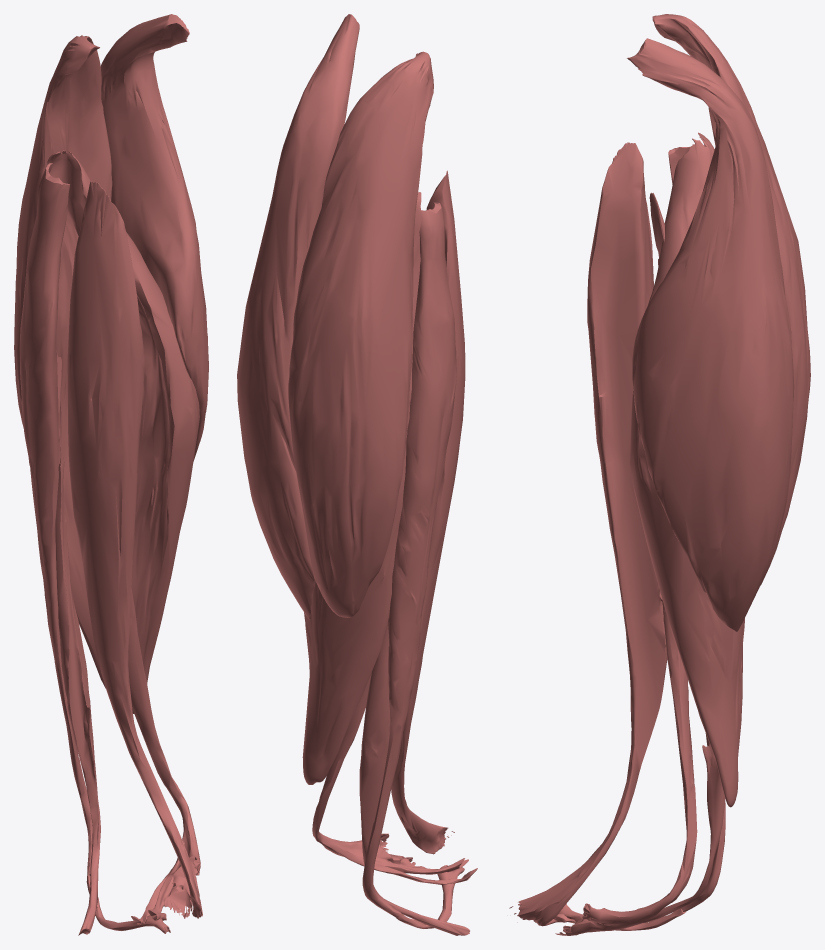
The model's file is muscular-leg-right.glb.
The picture shows the model from 3 angles, left to right: view 1: azimuth 30°, elevation 25°; view 2: azimuth 150°, elevation 25°; view 3: azimuth 270°, elevation 25°; orthographic projection. The views are drawn at different scales.
Visible parts, largest first — view 1: bp3d_FMA22544_FJ1439, bp3d_FMA22558_FJ1437, bp3d_FMA45957_FJ1397, bp3d_FMA22552_FJ1410, bp3d_FMA45960_FJ1394, bp3d_FMA22554_FJ1409, bp3d_FMA65018_FJ1440; view 2: bp3d_FMA45960_FJ1394, bp3d_FMA45957_FJ1397, bp3d_FMA22552_FJ1410, bp3d_FMA22558_FJ1437, bp3d_FMA22544_FJ1439, bp3d_FMA22554_FJ1409, bp3d_FMA65018_FJ1440; view 3: bp3d_FMA45957_FJ1397, bp3d_FMA22544_FJ1439, bp3d_FMA22558_FJ1437, bp3d_FMA45960_FJ1394, bp3d_FMA65018_FJ1440, bp3d_FMA22554_FJ1409, bp3d_FMA22552_FJ1410.
Part boxes in pixels (x1,y1,x2,y2): bp3d_FMA22544_FJ1439: [67, 181, 202, 918]; bp3d_FMA22558_FJ1437: [45, 150, 199, 713]; bp3d_FMA45957_FJ1397: [100, 14, 208, 461]; bp3d_FMA22552_FJ1410: [20, 163, 170, 933]; bp3d_FMA45960_FJ1394: [14, 35, 112, 427]; bp3d_FMA22554_FJ1409: [55, 457, 100, 935]; bp3d_FMA65018_FJ1440: [128, 586, 200, 925]; bp3d_FMA45960_FJ1394: [288, 51, 433, 617]; bp3d_FMA45957_FJ1397: [237, 14, 359, 620]; bp3d_FMA22552_FJ1410: [362, 202, 464, 928]; bp3d_FMA22558_FJ1437: [302, 192, 422, 784]; bp3d_FMA22544_FJ1439: [391, 170, 465, 854]; bp3d_FMA22554_FJ1409: [359, 624, 469, 935]; bp3d_FMA65018_FJ1440: [312, 673, 477, 884]; bp3d_FMA45957_FJ1397: [627, 38, 794, 631]; bp3d_FMA22544_FJ1439: [509, 142, 667, 926]; bp3d_FMA22558_FJ1437: [630, 132, 744, 807]; bp3d_FMA45960_FJ1394: [652, 14, 810, 585]; bp3d_FMA65018_FJ1440: [555, 192, 697, 935]; bp3d_FMA22554_FJ1409: [643, 733, 725, 922]; bp3d_FMA22552_FJ1410: [533, 145, 725, 930].
Bounding box in the file's own units: 0.1047 × 0.488 × 0.1438.
